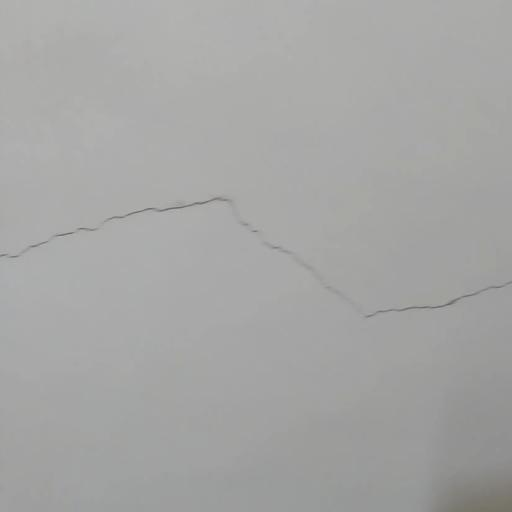minor_crack: (0, 190, 512, 323)
